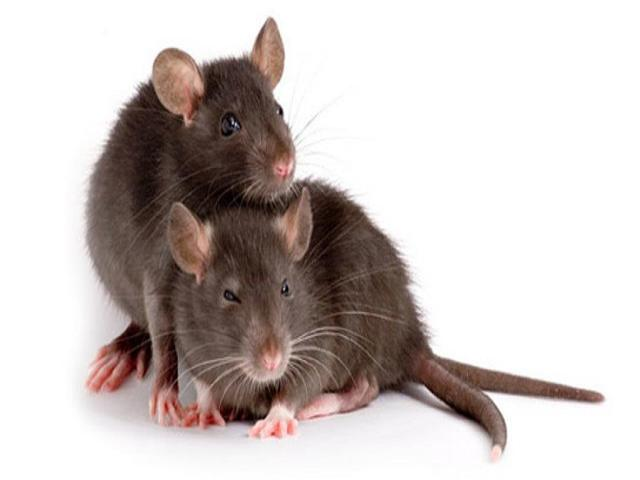Tikus: (167, 201, 468, 433), (102, 16, 294, 197)
